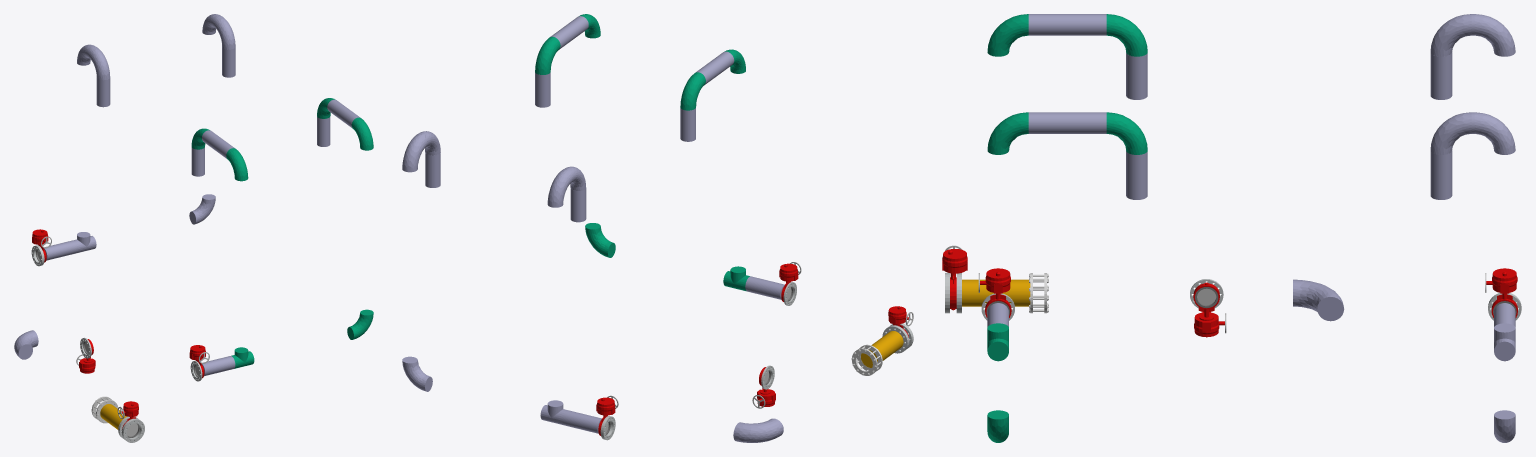
3 views of the same model, side by side, from view 1: azimuth 30°, elevation 25°; view 2: azimuth 150°, elevation 25°; view 3: azimuth 270°, elevation 25° (orthographic). The views are drawn at different scales.
Bounding box in the file's own units: 4.98 × 4.39 × 5.86.
